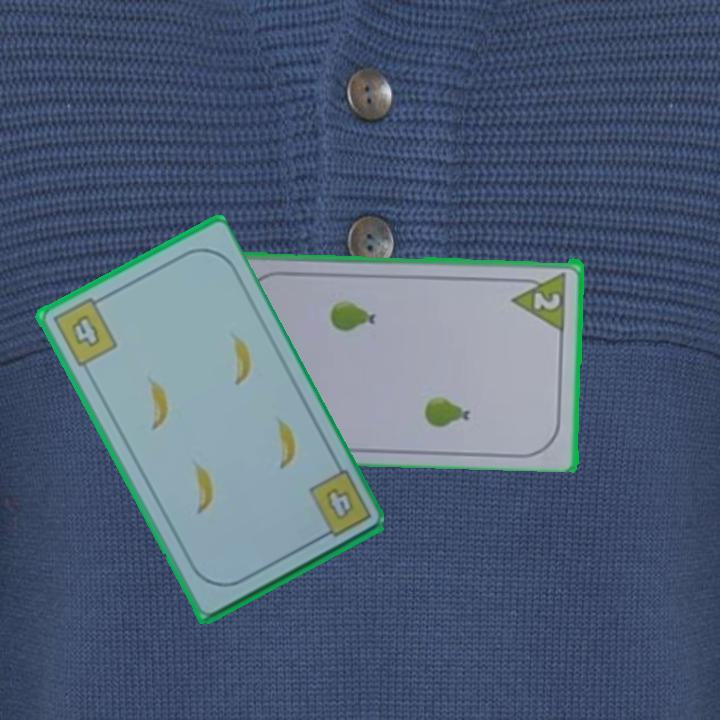2p: (530, 286, 564, 313)
4b: (49, 292, 120, 370), (304, 466, 374, 543)
